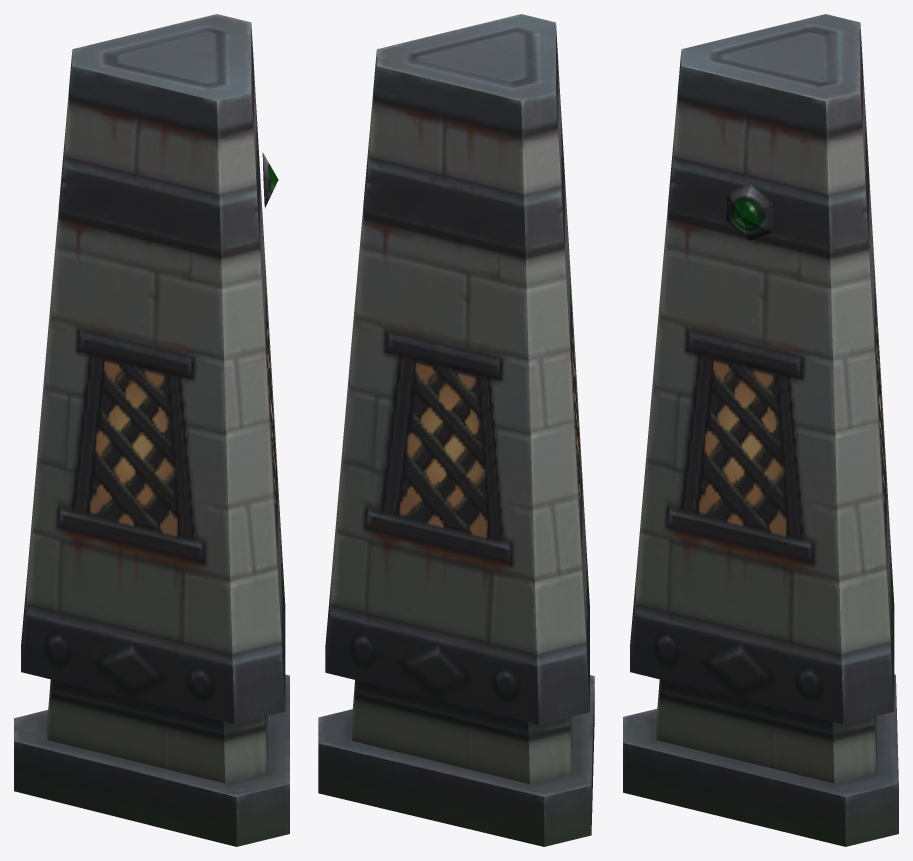
Rendered from scene_lawennushandao_ludeng02.FBX.
3 renders of one model, left to right at view 1: azimuth 30°, elevation 25°; view 2: azimuth 150°, elevation 25°; view 3: azimuth 270°, elevation 25°, orthographic.
Parts seen in each view (by area): view 1: scene_lawennushandao_ludeng02; view 2: scene_lawennushandao_ludeng02; view 3: scene_lawennushandao_ludeng02.
Part boxes in pixels (bbox=[...]): scene_lawennushandao_ludeng02: bbox=[14, 14, 289, 846]; scene_lawennushandao_ludeng02: bbox=[318, 14, 594, 846]; scene_lawennushandao_ludeng02: bbox=[623, 14, 898, 846].
Bounding box in the file's own units: 88.12 × 222 × 76.72.
